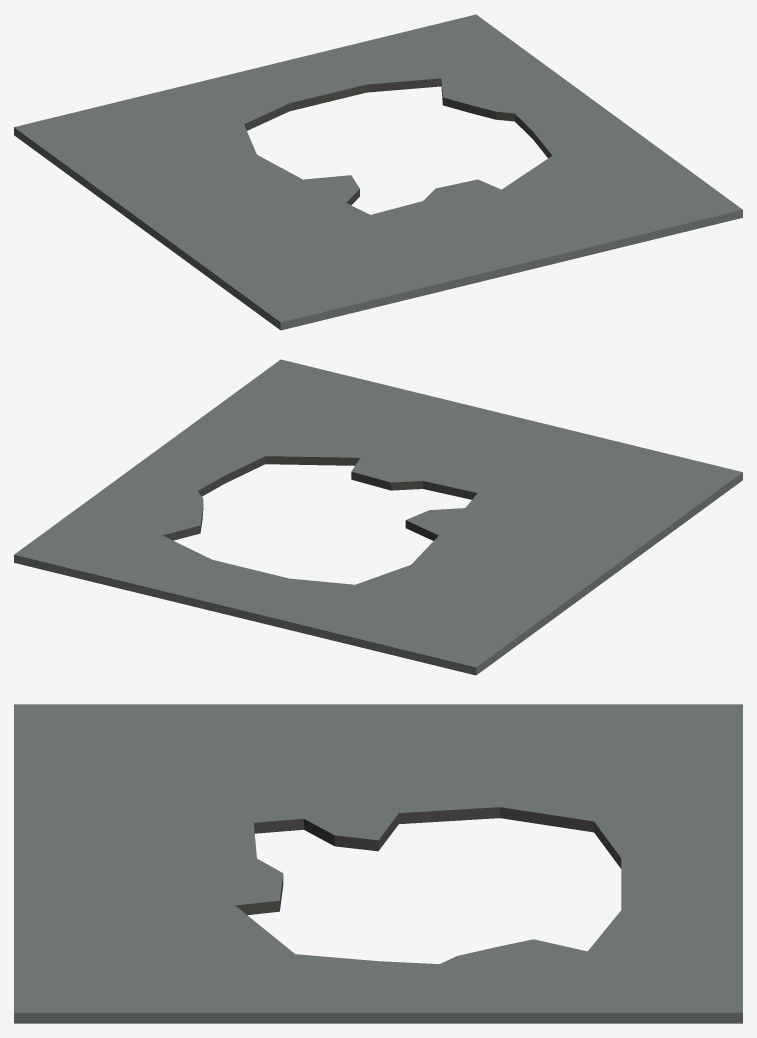
The model's file is SM_Floor_Broken_3x3_A.fbx.
3 views of the same model, one above another, from view 1: azimuth 30°, elevation 25°; view 2: azimuth 150°, elevation 25°; view 3: azimuth 270°, elevation 25° (orthographic). The views are drawn at different scales.
Parts seen in each view (by area): view 1: SM_Floor_Broken_3x3_A; view 2: SM_Floor_Broken_3x3_A; view 3: SM_Floor_Broken_3x3_A.
Boxes of the visible parts, x1,y1,x2,y2 form: SM_Floor_Broken_3x3_A: (14, 14, 742, 330); SM_Floor_Broken_3x3_A: (14, 359, 742, 675); SM_Floor_Broken_3x3_A: (14, 704, 742, 1023).
Bounding box in the file's own units: 300 × 5 × 300.
